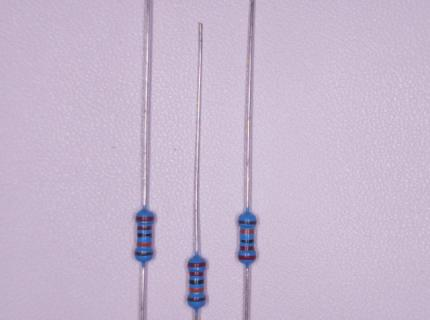Black band: (137, 233, 152, 238), (190, 280, 204, 285), (240, 240, 254, 244)
Brown band: (188, 297, 206, 302), (135, 252, 153, 256), (239, 221, 257, 224)
Orange band: (240, 229, 255, 234), (190, 288, 204, 293), (138, 242, 151, 246)
Red band: (137, 216, 154, 221), (190, 271, 204, 277), (188, 263, 206, 267), (239, 256, 256, 260), (240, 246, 255, 250), (138, 226, 152, 230)
